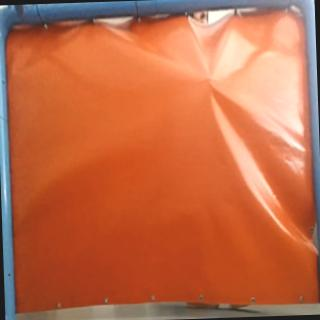Hit-hRxx: (203, 71, 221, 90)
